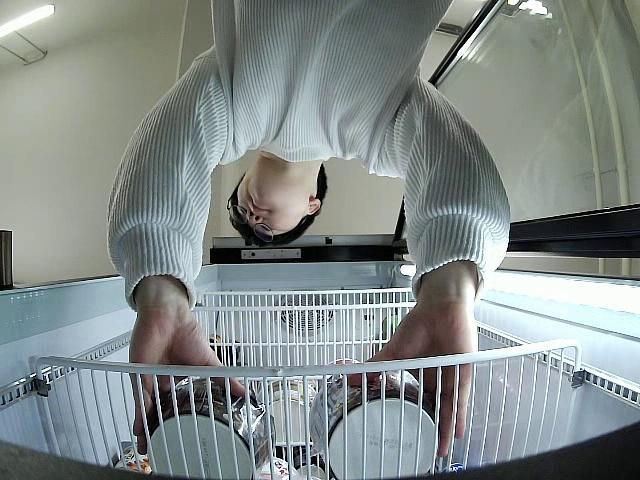07_buldak_L: (309, 368, 440, 480), (146, 373, 272, 480)
